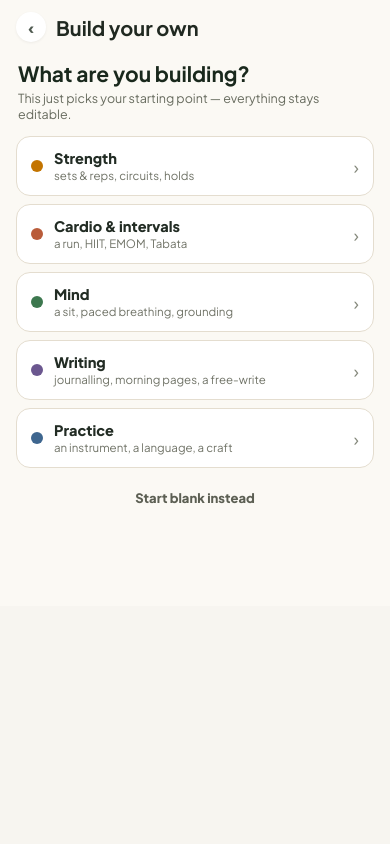
ActivityBuilder — the palette inserts the right step kind › pressing "Measure" inserts a card that resolves via inferTool with no explicit tool field
Step 1. Click the button "Start blank instead" → x=195, y=498, box [16,480,374,516]
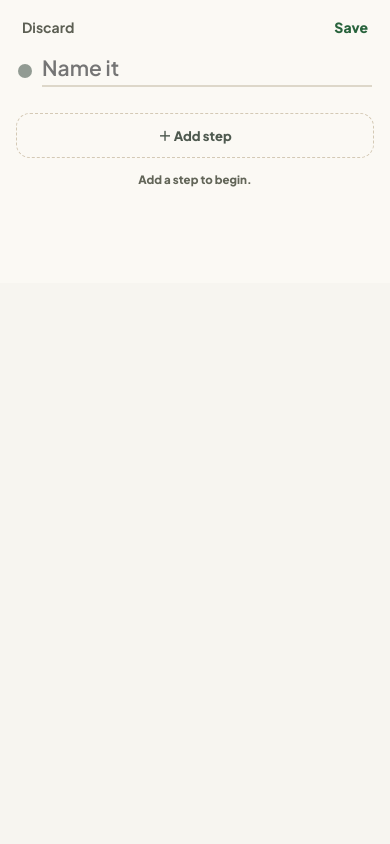
Check: the button "Discard" is shown, box [16,12,80,42]
Step 2. Click the button "＋ Add step" → x=195, y=136, box [16,113,374,158]
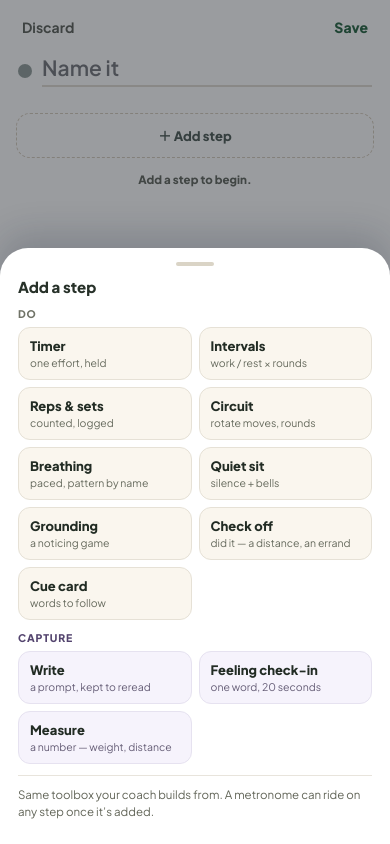
Step 3. Click the text "Measure" → x=57, y=730, box [30,722,85,738]
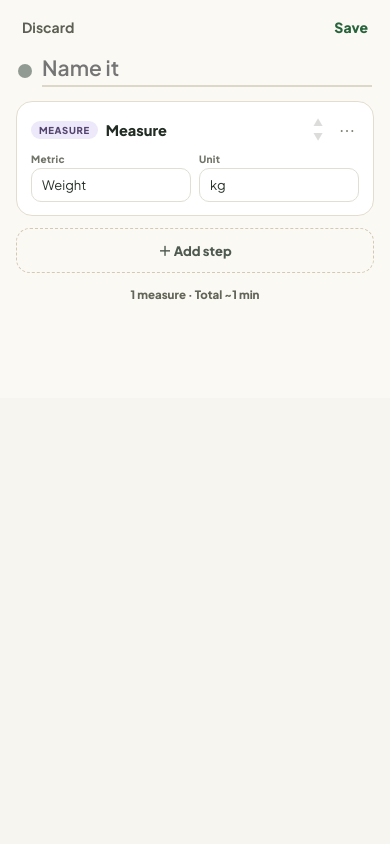
Check: the text "measure" is shown, box [31,120,98,138]
